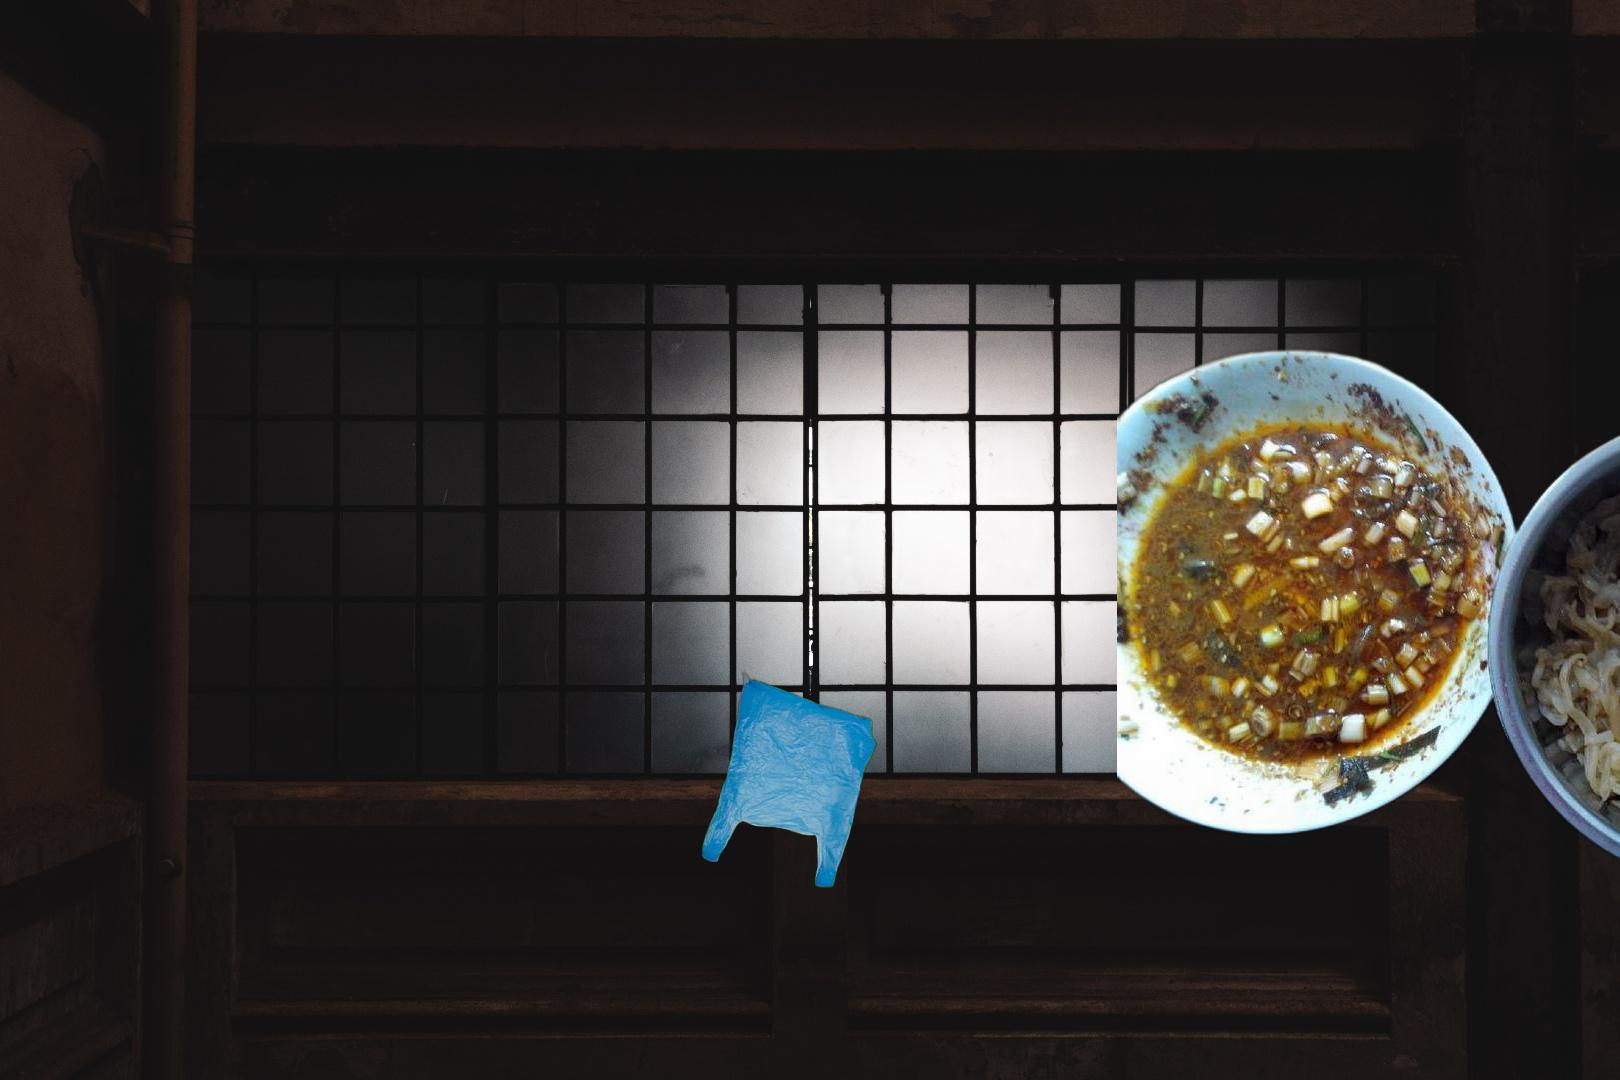biological: (1117, 344, 1620, 888)
plastic-bag: (689, 661, 880, 891)
